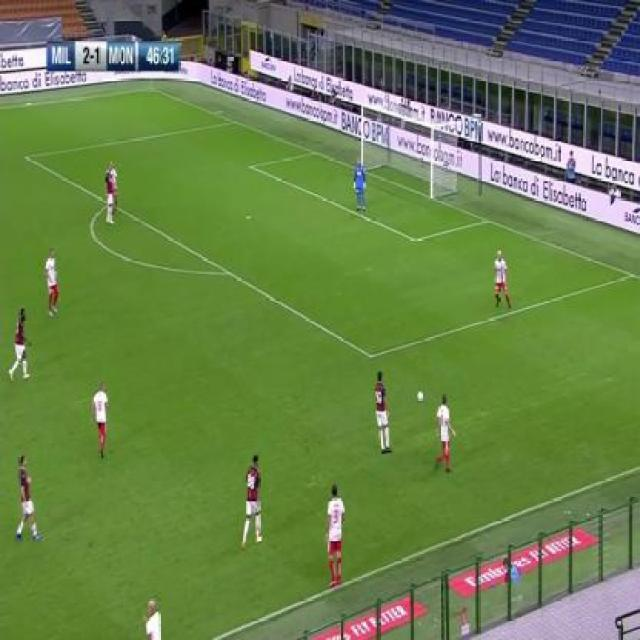ball: (416, 389, 425, 403)
player: (13, 452, 42, 545), (239, 451, 264, 553), (326, 479, 346, 590), (432, 392, 457, 474), (9, 306, 34, 385), (374, 369, 393, 454), (91, 379, 111, 459), (493, 247, 513, 310), (44, 247, 61, 320), (141, 594, 166, 639), (105, 157, 119, 226), (353, 155, 367, 214)
